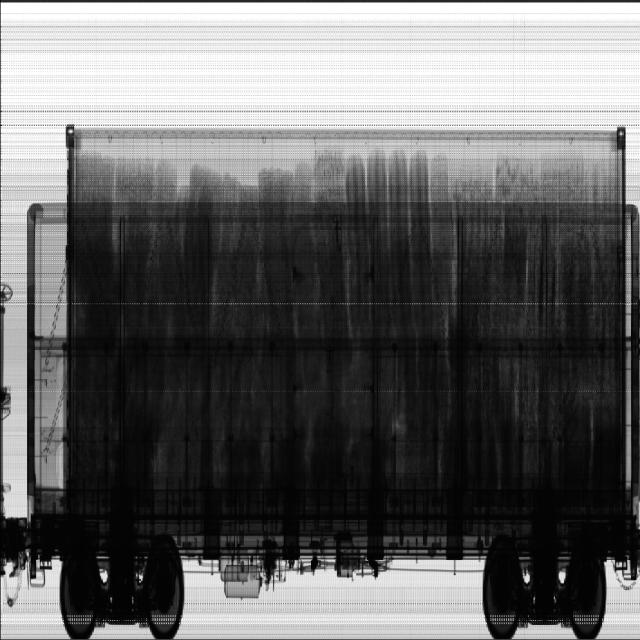clothes: (71, 147, 450, 486)
